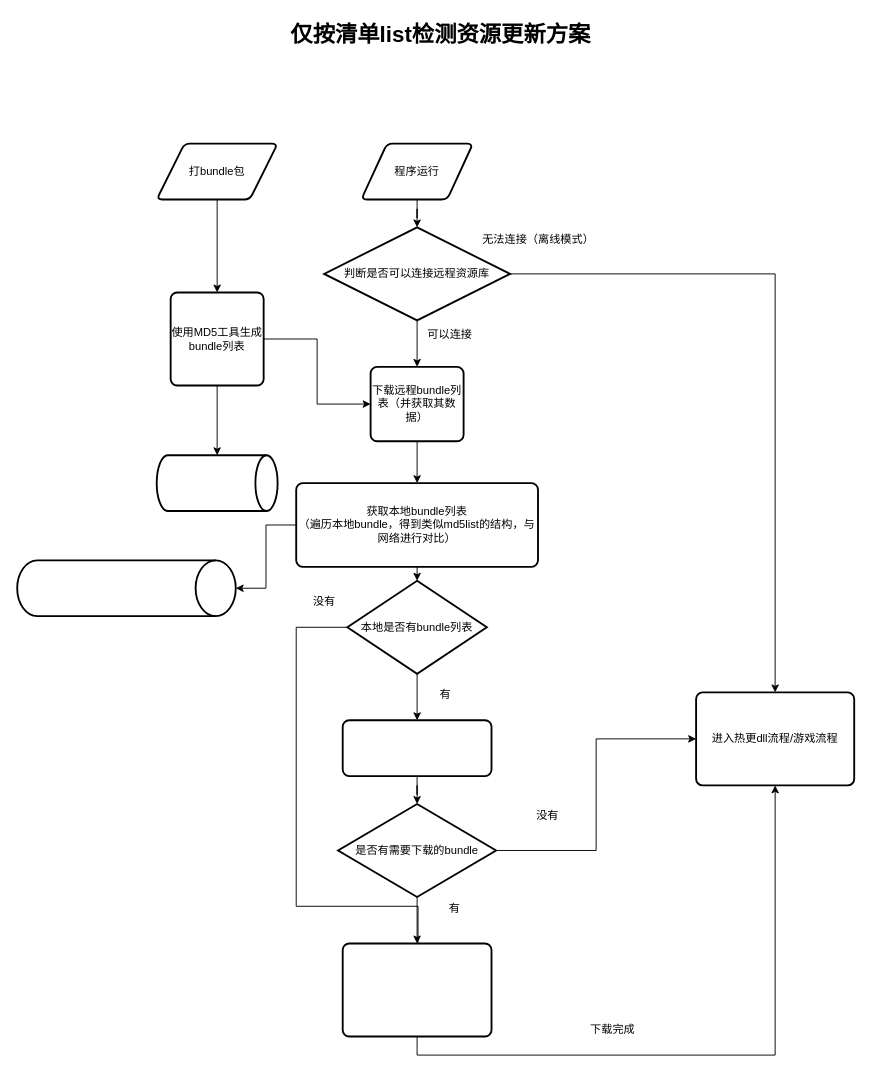
Some shapes in this 870 by 1079 pixel diagram are drawn without their labels. Here are the shapes that lost their labels. From the top down, the centre of each, then its label:
At point (216, 483): "bundle name | MD5 | size(byte)".
At point (126, 588): "bundle name | MD5 | size(byte)（downloaded）".
At point (416, 748): "远程和本地列表进行对比 （md5和size的对比），获取需要下载的bundle名".
At point (416, 989): "下载需要的bundle".
